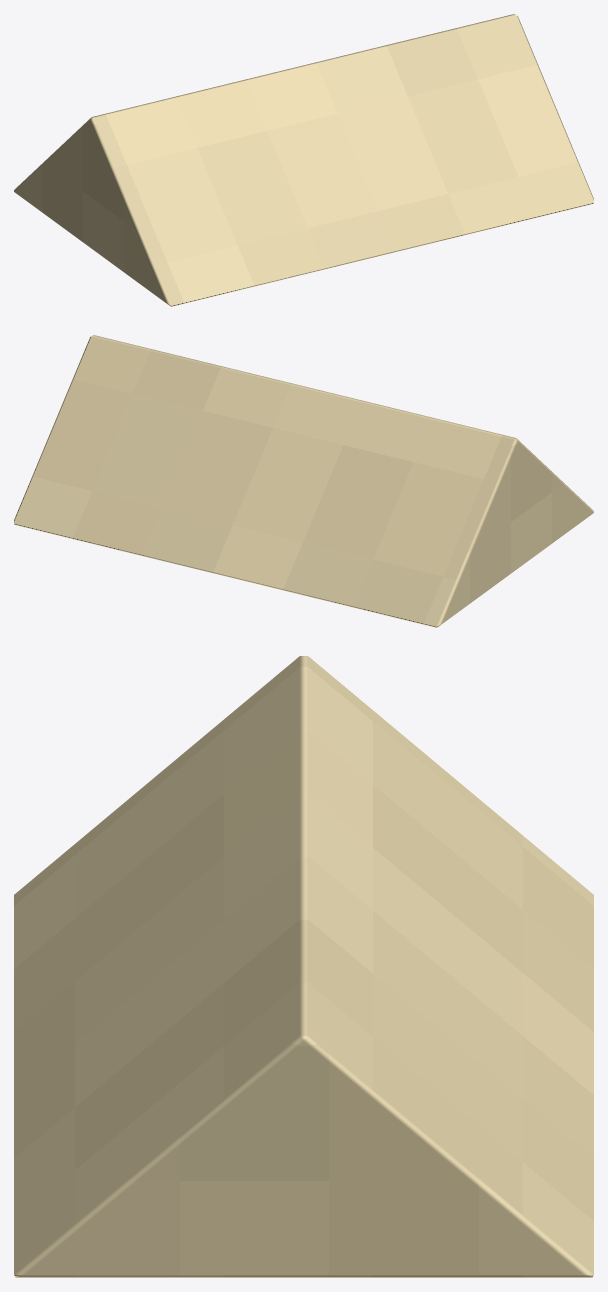
The model's file is Gable-fold.glb.
The picture shows the model from 3 angles, top to bottom: view 1: azimuth 30°, elevation 25°; view 2: azimuth 150°, elevation 25°; view 3: azimuth 270°, elevation 25°; orthographic projection. The views are drawn at different scales.
Visible parts, largest first — view 1: Gable-fold; view 2: Gable-fold; view 3: Gable-fold.
Boxes of the visible parts, bbox=[...] form: Gable-fold: bbox=[14, 14, 593, 306]; Gable-fold: bbox=[14, 335, 593, 627]; Gable-fold: bbox=[14, 656, 593, 1277].
Bounding box in the file's own units: 0.238 × 0.07 × 0.1518.
Materials: 1 (1 with a texture image).
